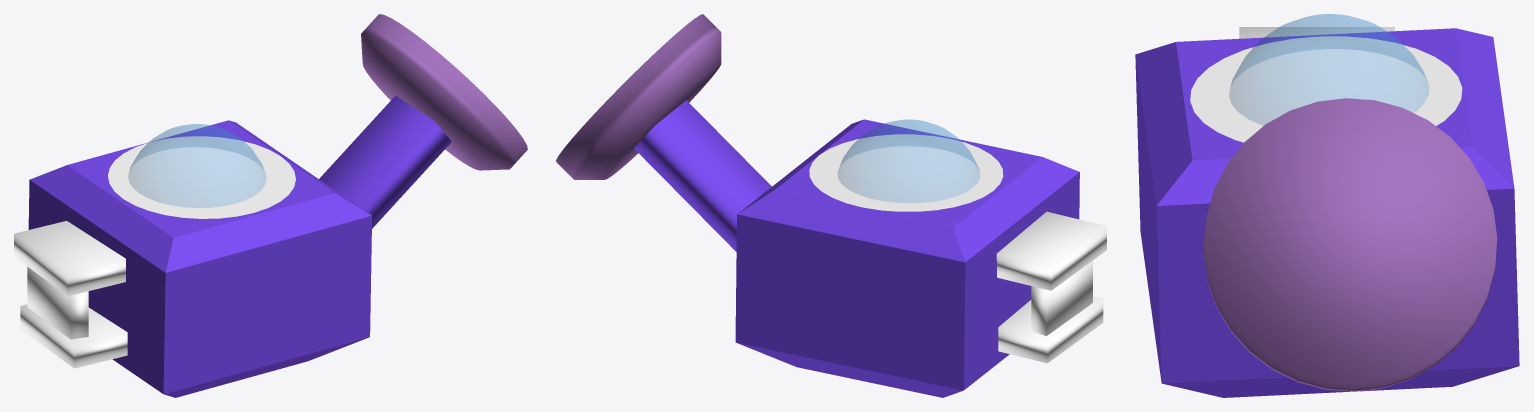
File: vessel.glb
3 views of the same model, side by side, from view 1: azimuth 30°, elevation 25°; view 2: azimuth 150°, elevation 25°; view 3: azimuth 270°, elevation 25° (orthographic). The views are drawn at different scales.
Visible parts, largest first — view 1: squarebody.001, ui.001, handle.001, watering.001, water sphere.001, spout.001; view 2: squarebody.001, handle.001, ui.001, watering.001, spout.001, water sphere.001; view 3: watering.001, squarebody.001, ui.001, water sphere.001, handle.001.
Boxes of the visible parts, left/top/right/bottom form: squarebody.001: left=28, top=120, right=371, bottom=397; ui.001: left=108, top=136, right=295, bottom=218; handle.001: left=14, top=221, right=127, bottom=368; watering.001: left=361, top=14, right=527, bottom=170; water sphere.001: left=128, top=124, right=266, bottom=207; spout.001: left=319, top=95, right=451, bottom=228; squarebody.001: left=735, top=119, right=1079, bottom=397; handle.001: left=996, top=211, right=1106, bottom=363; ui.001: left=809, top=134, right=1003, bottom=211; watering.001: left=556, top=14, right=721, bottom=179; spout.001: left=634, top=100, right=771, bottom=251; water sphere.001: left=837, top=119, right=979, bottom=202; watering.001: left=1203, top=98, right=1497, bottom=391; squarebody.001: left=1135, top=28, right=1519, bottom=397; ui.001: left=1190, top=36, right=1462, bottom=142; water sphere.001: left=1229, top=14, right=1428, bottom=125; handle.001: left=1239, top=27, right=1394, bottom=38.
Bounding box in the file's own units: 1.66 × 0.9064 × 0.7978.
